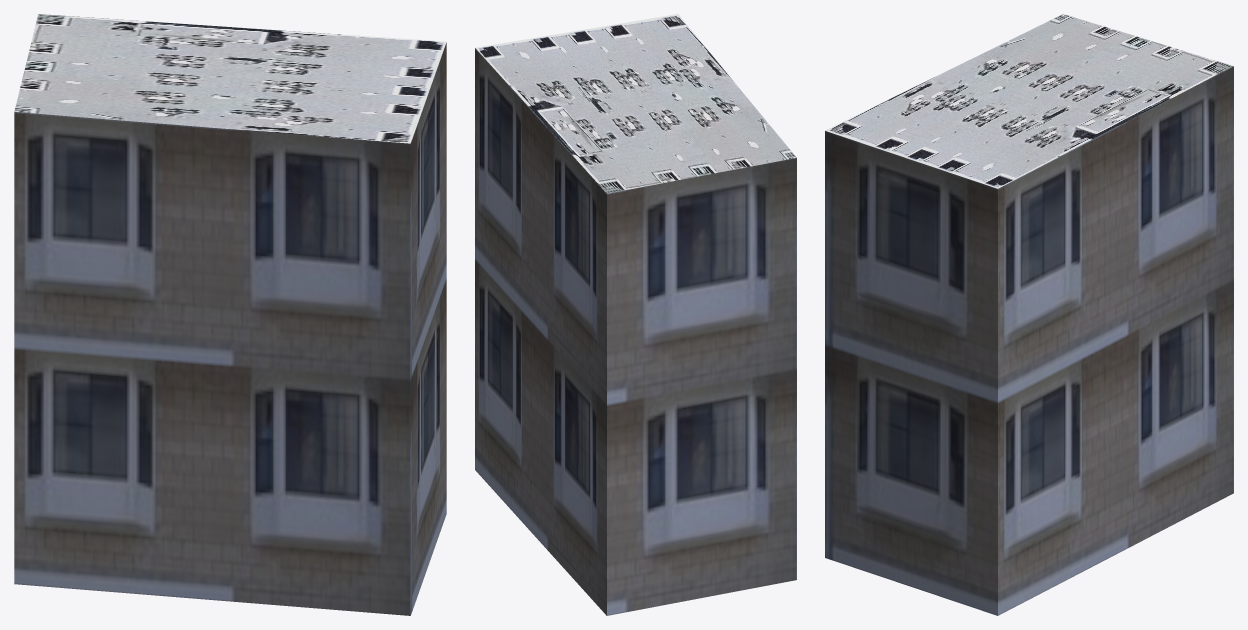
File: ResTex__295.fbx
3 views of the same model, side by side, from view 1: azimuth 30°, elevation 25°; view 2: azimuth 150°, elevation 25°; view 3: azimuth 270°, elevation 25° (orthographic). The views are drawn at different scales.
Parts seen in each view (by area): view 1: CityEngineMaterial_3_m, CityEngineMaterial_8_m; view 2: CityEngineMaterial_3_m, CityEngineMaterial_8_m; view 3: CityEngineMaterial_3_m, CityEngineMaterial_8_m.
Part boxes in pixels (bbox=[...]): CityEngineMaterial_3_m: bbox=[14, 42, 446, 615]; CityEngineMaterial_8_m: bbox=[14, 14, 446, 143]; CityEngineMaterial_3_m: bbox=[475, 48, 796, 615]; CityEngineMaterial_8_m: bbox=[475, 14, 796, 193]; CityEngineMaterial_3_m: bbox=[825, 66, 1233, 615]; CityEngineMaterial_8_m: bbox=[825, 14, 1233, 188].
Size of the model in its own units: 5.27 by 6 by 5.2.
2 materials, 2 textured.
